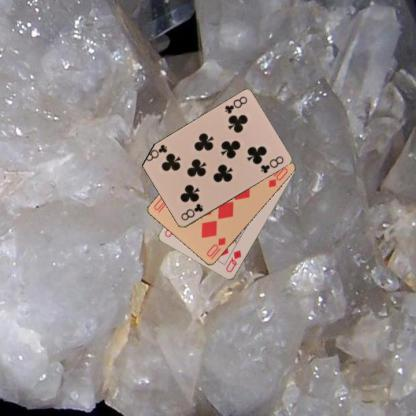10d: (204, 235, 227, 261)
8c: (222, 94, 248, 116), (178, 201, 204, 222)
Qd: (223, 247, 243, 274)
